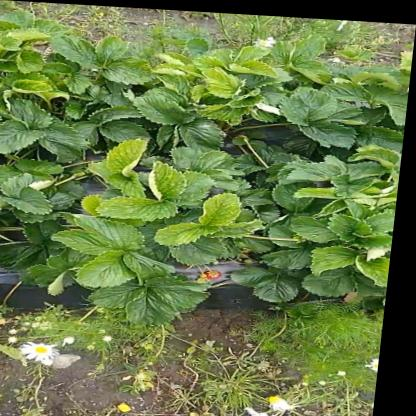ripe: (210, 267, 229, 277)
